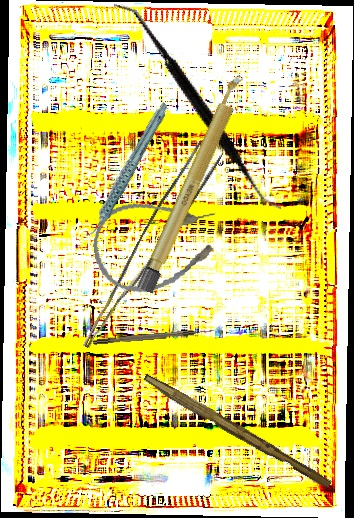Cannula: (87, 188, 227, 301)
Handpiece: (59, 100, 193, 240)
Hook Surgical: (92, 328, 216, 345)
Scalpel Handle: (136, 71, 249, 295), (139, 373, 335, 490)
Spatula Surgical: (65, 1, 330, 212)
Tissue Forceps: (82, 137, 224, 362)
